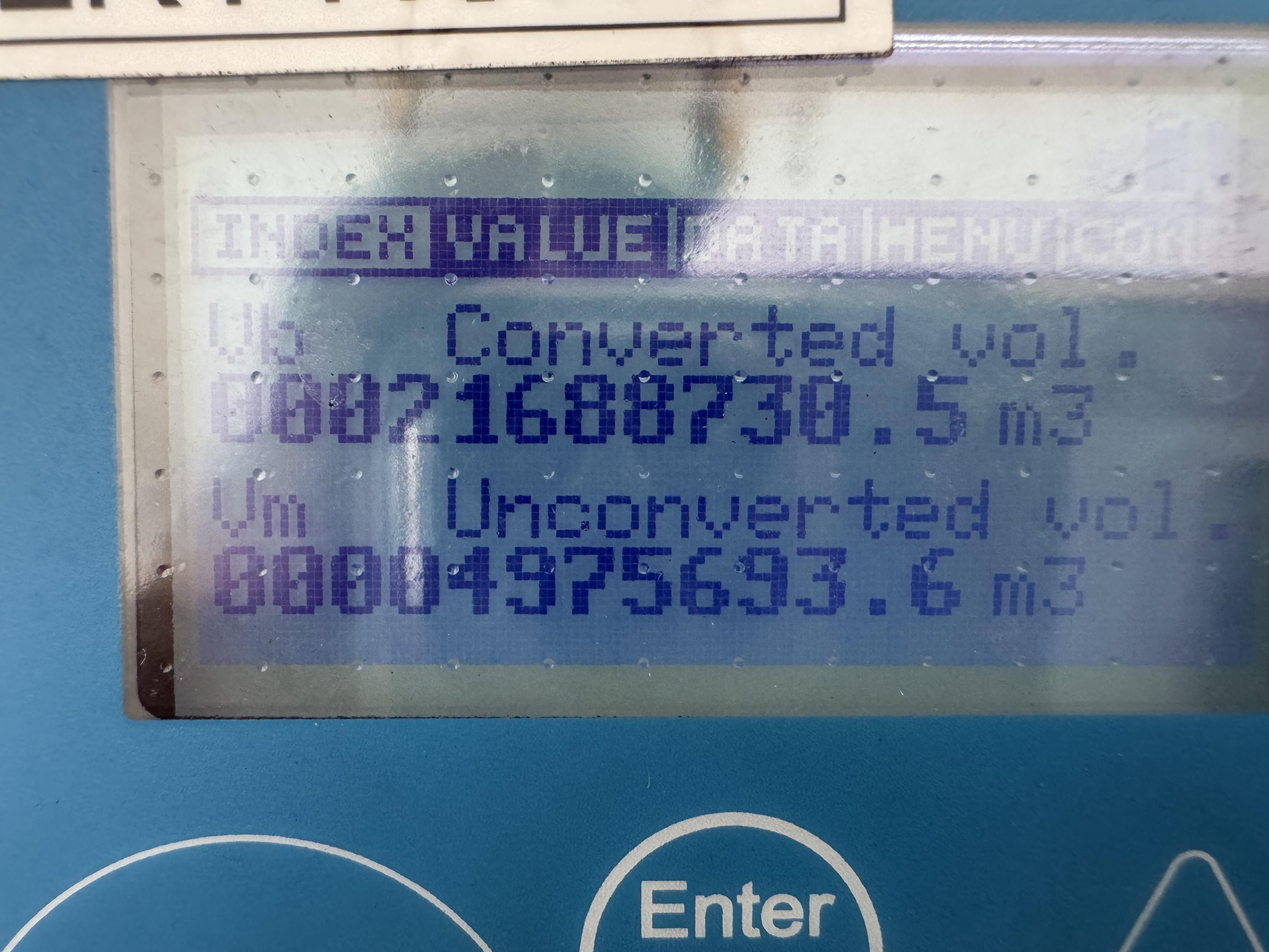digital_screen: (104, 24, 1269, 718)
